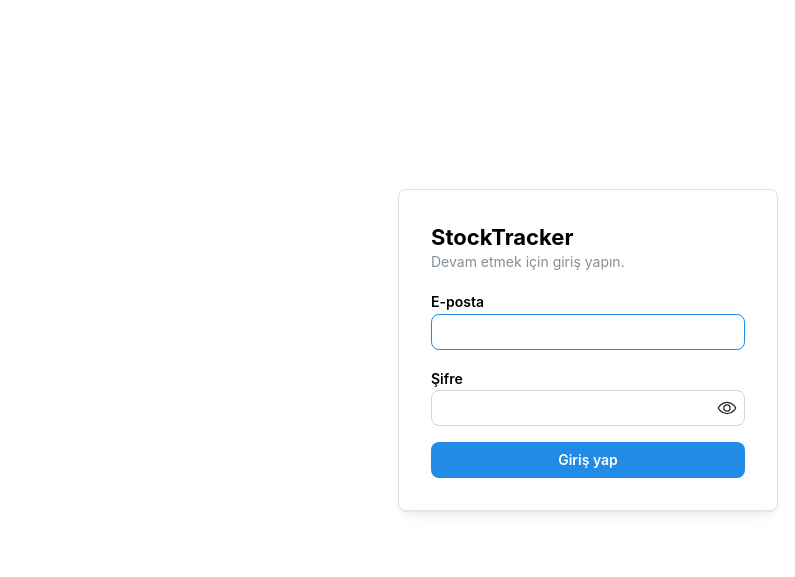
Scenario: AuthProvider › shows the login page without a session and returns to the requested page after login
Type "ayse@example.com" into the field labelled "E-posta". click: (588, 332)
box: [431,314,745,350]
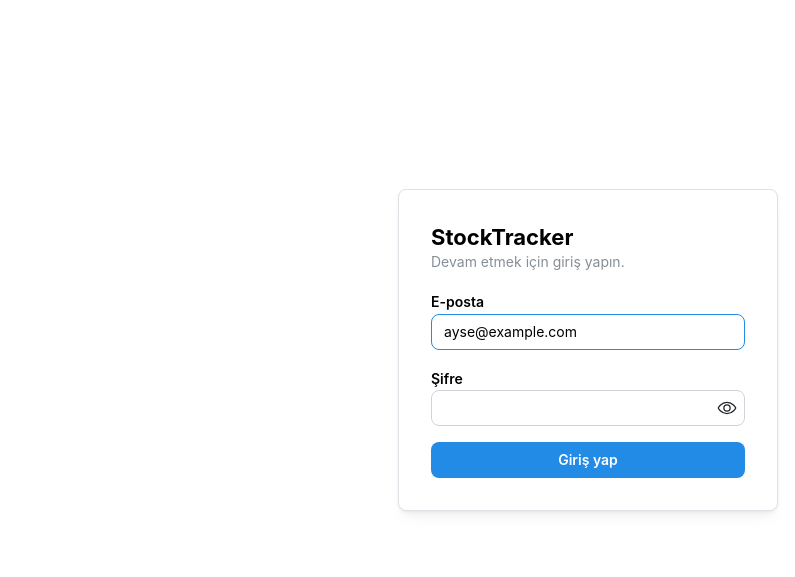
Type "Yanlis123" into the password field labelled "Şifre". click: (588, 408)
box: [432,391,744,425]
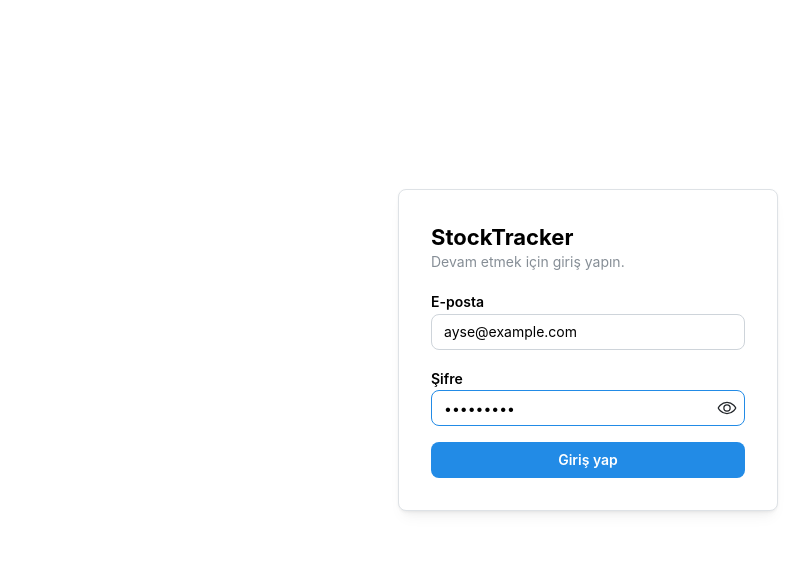
Click the button "Giriş yap". click: (588, 460)
box: [431,442,745,478]
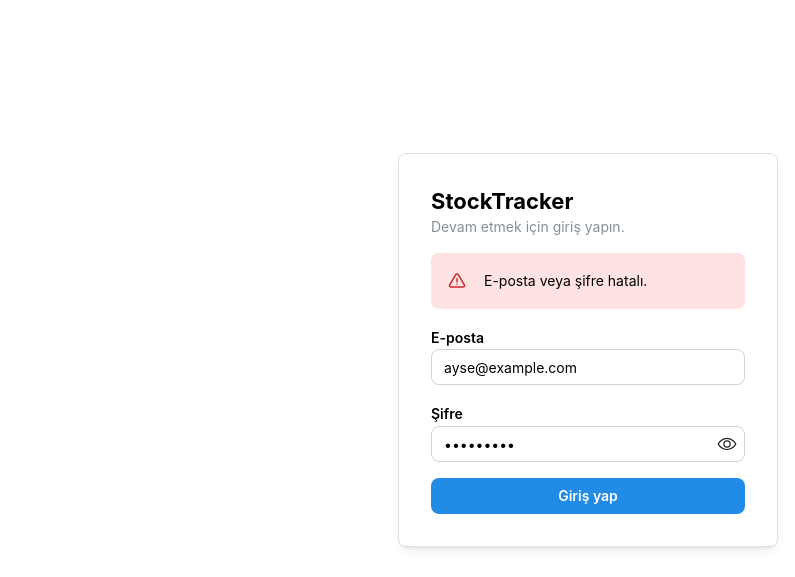
Result: the text "E-posta veya şifre hatalı." is shown at [484,272,647,289]
Clear the password field labelled "Şifre". click: (588, 444)
box: [432,427,744,461]
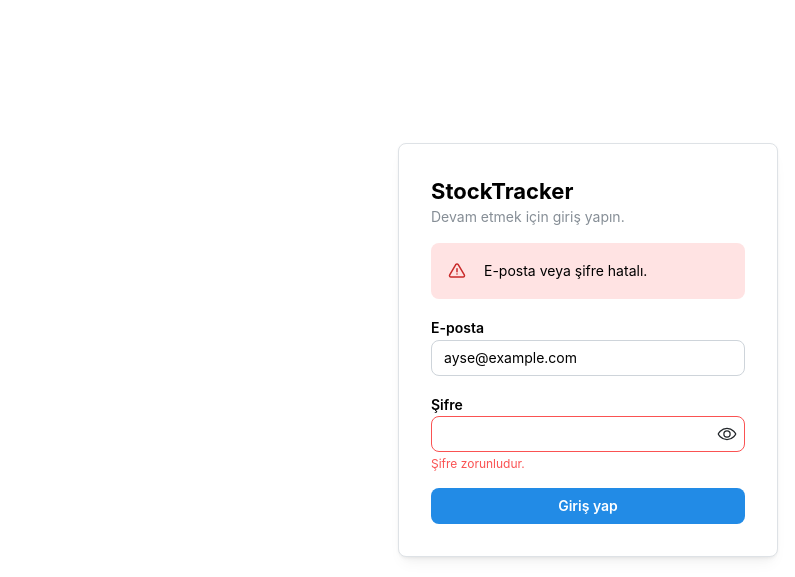
Type "Sifre1234" into the password field labelled "Şifre". click: (588, 434)
box: [432,418,744,452]
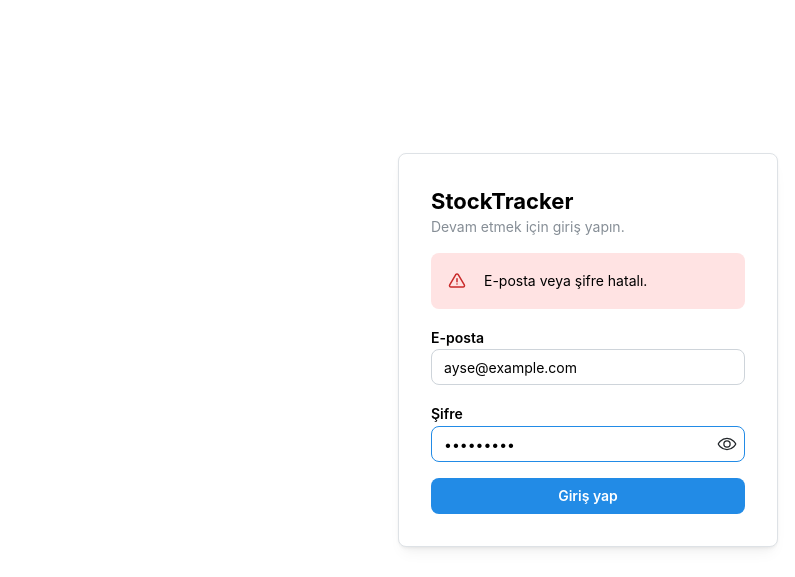
Click the button "Giriş yap". click: (588, 496)
box: [431,478,745,514]
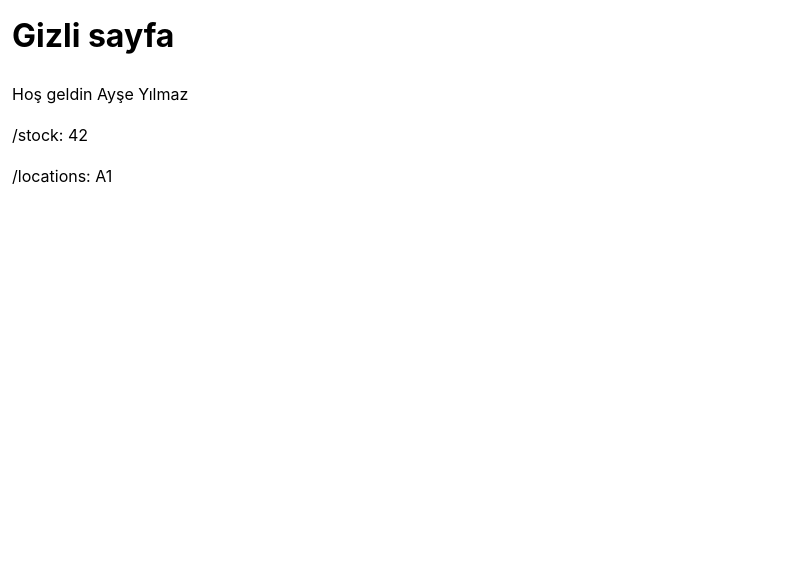
Result: the heading "Gizli sayfa" is shown at [12,16,174,55]
